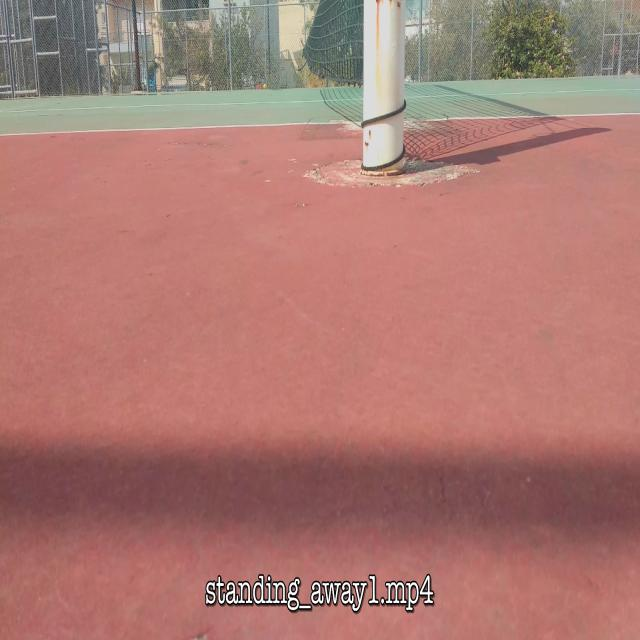ball: (264, 84, 266, 90)
